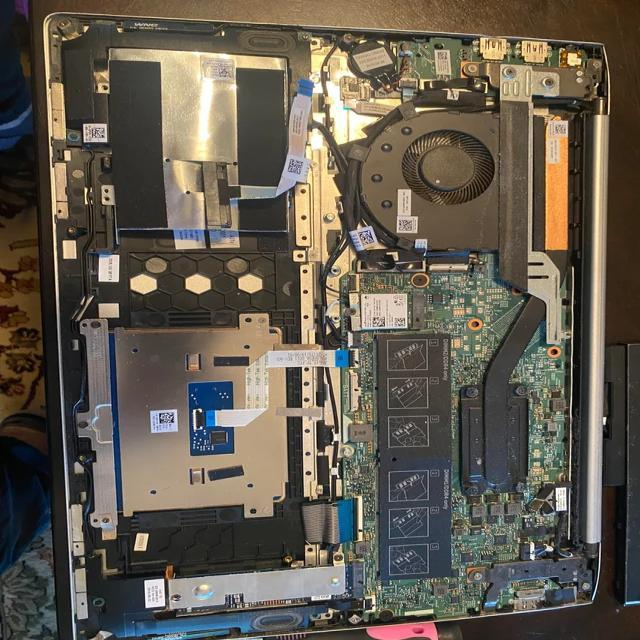NIC: (108, 49, 287, 249)
SSD: (348, 40, 405, 91)
Screw: (538, 73, 558, 91), (502, 65, 522, 80)
